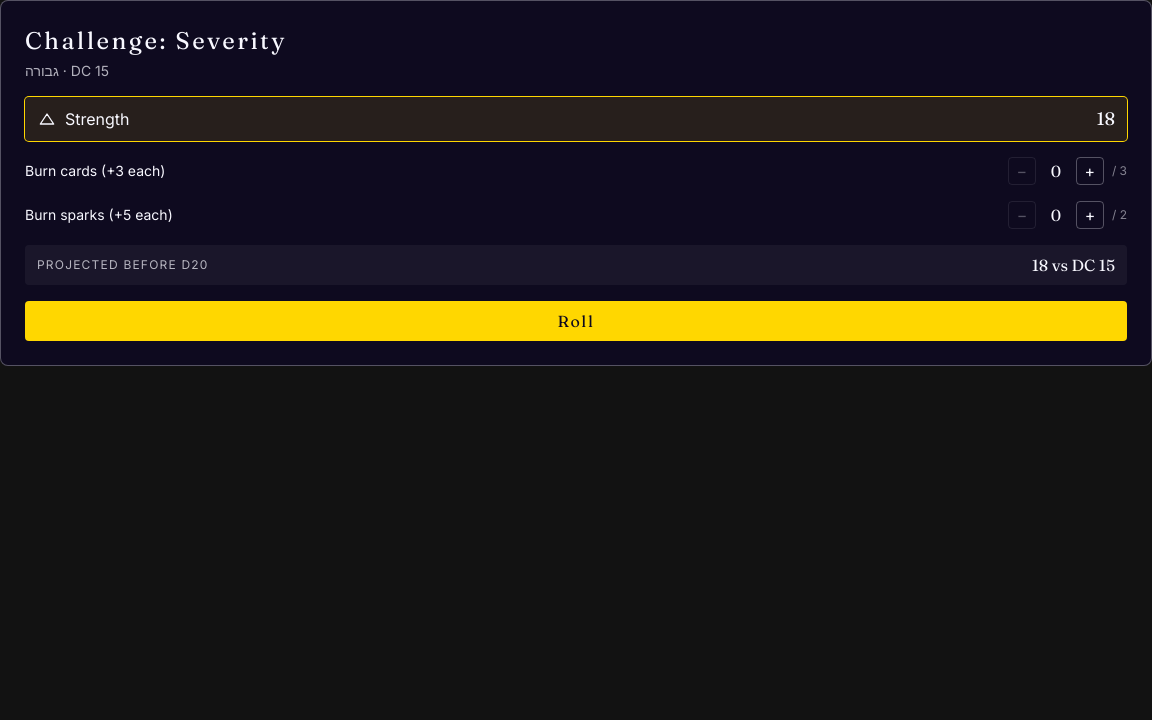
Test: ChallengeModal — rolling and reveal › reveal phase shows the breakdown total
Click the button "Roll".
click(576, 321)  # box [25,301,1127,341]
Wait 800 ms
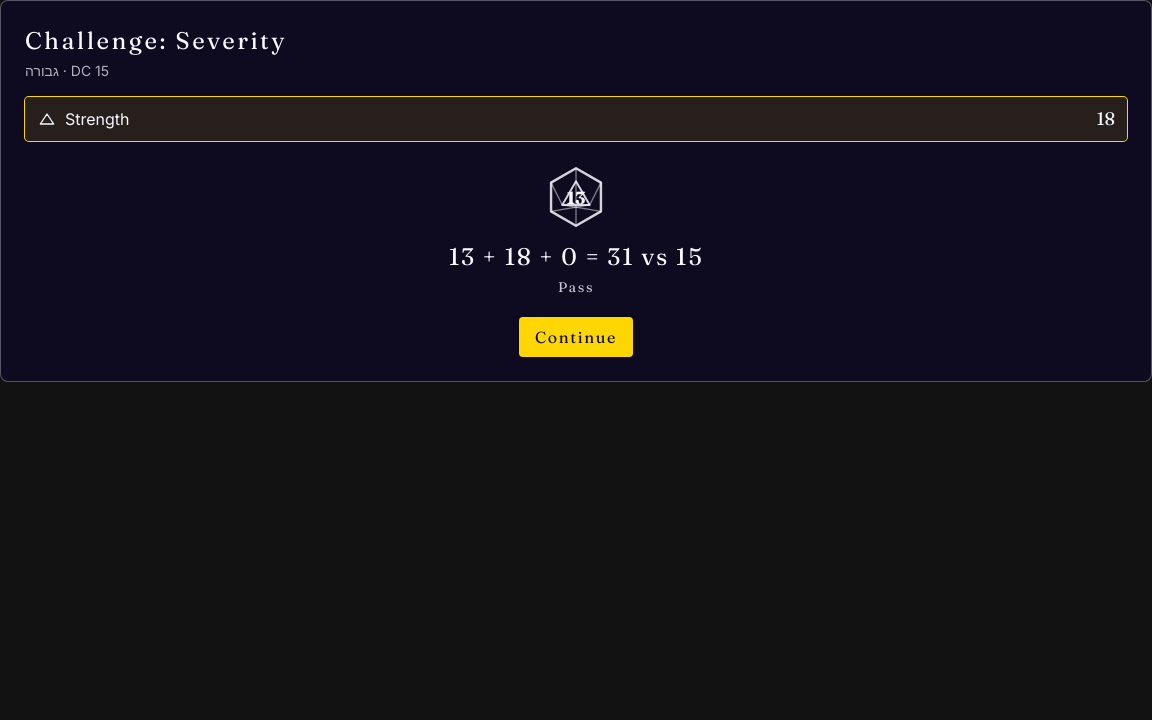
Expected: the text "31" is shown, [607,242,634,271]
